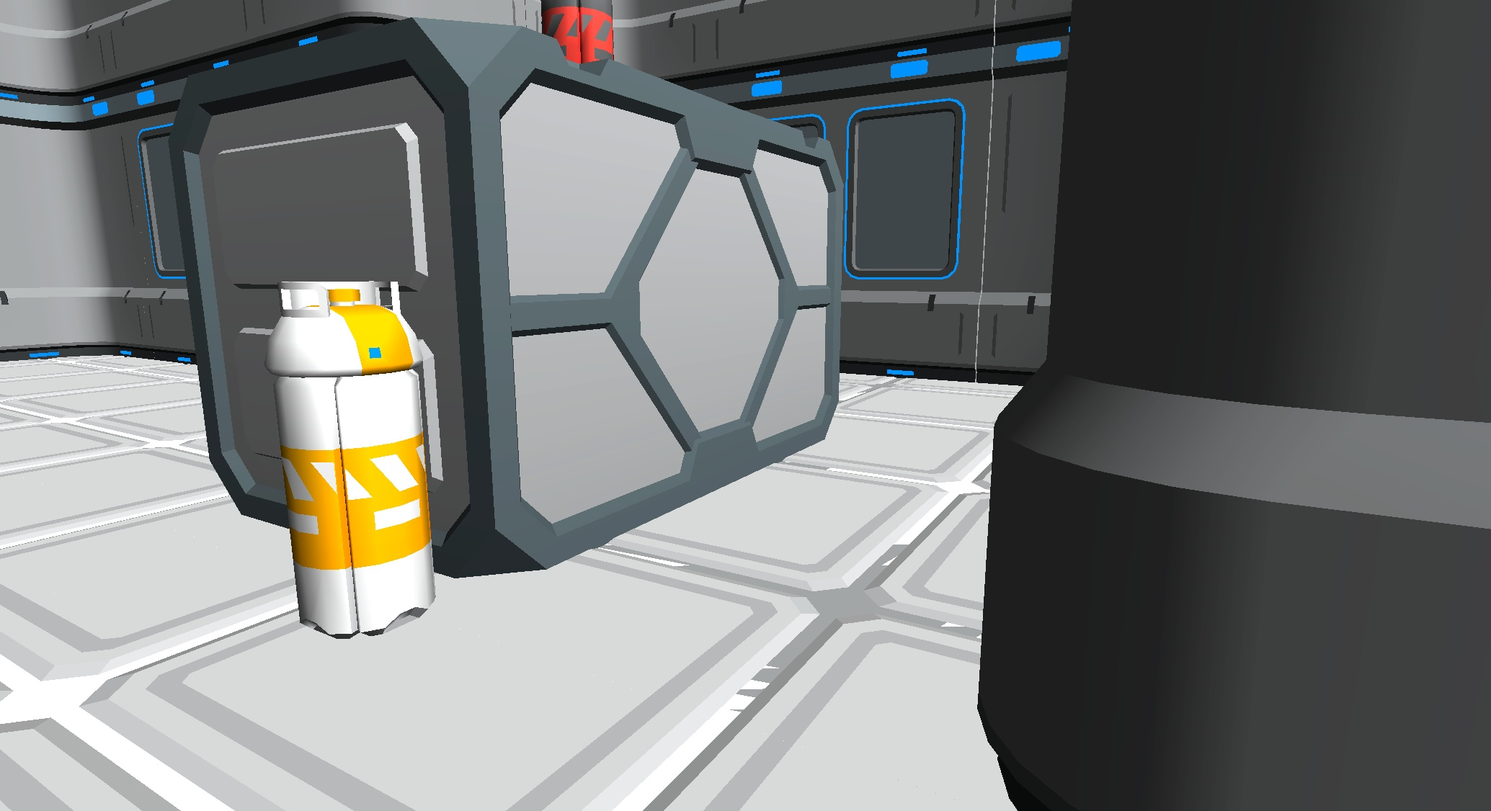red_barrel: (542, 0, 613, 62)
yellow_barrel: (266, 282, 435, 638)
